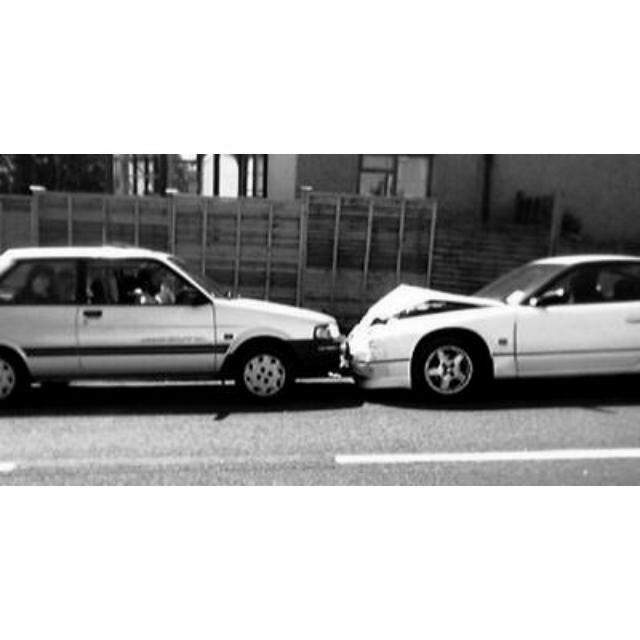bonnet-dent: (363, 283, 497, 316)
